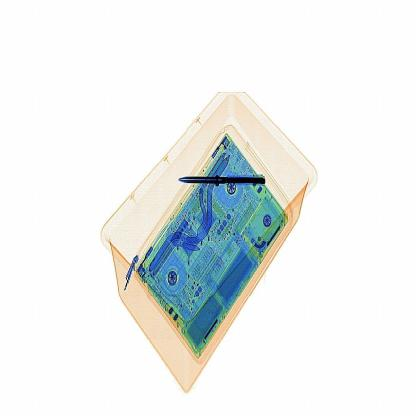gun: (169, 162, 280, 198)
